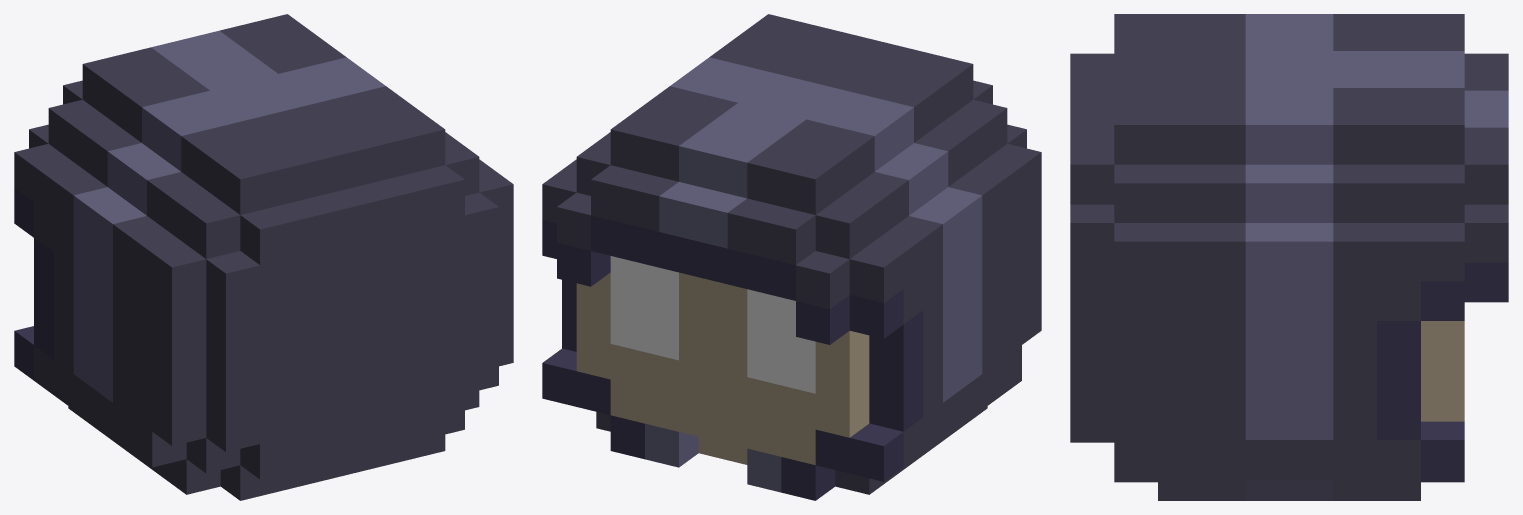
Rendered from Radist-4.obj.
The picture shows the model from 3 angles, left to right: view 1: azimuth 30°, elevation 25°; view 2: azimuth 150°, elevation 25°; view 3: azimuth 270°, elevation 25°; orthographic projection. The views are drawn at different scales.
Bounding box in the file's own units: 1 × 0.9 × 1.
1 material, 1 textured.
